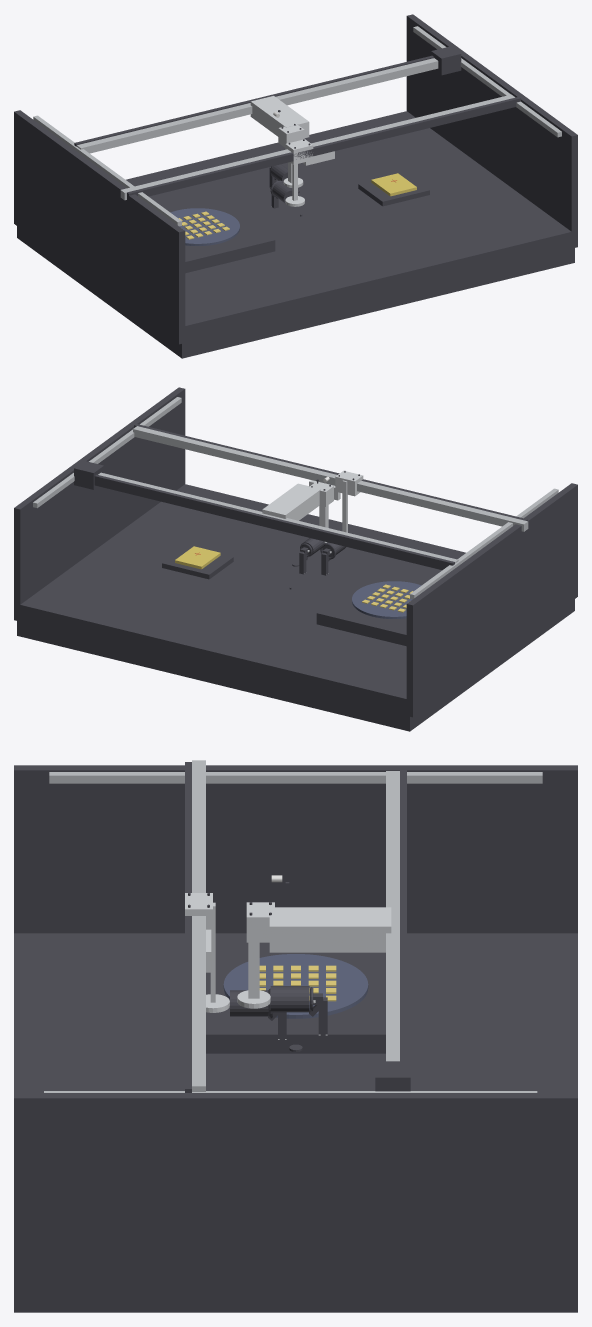
Rendered from flip_chip_bonder.glb.
The picture shows the model from 3 angles, top to bottom: view 1: azimuth 30°, elevation 25°; view 2: azimuth 150°, elevation 25°; view 3: azimuth 270°, elevation 25°; orthographic projection. The views are drawn at different scales.
Parts seen in each view (by area): view 1: MACHINE_BASE, PANEL, PANEL.001, COLRIGHT_RAIL, SKING_RAIL_BACK, WAFER_STAGE, SKING_LINEAR_RAIL, WAFER, COLRIGHT_MOUNT_BRACKET_RAIL, COLRIGHT_RAIL2, TFRAIL2.001, TFRAIL2 (+5 smaller); view 2: MACHINE_BASE, PANEL, PANEL.001, SKING_LINEAR_RAIL, COLRIGHT_RAIL2, WAFER_STAGE, WAFER, COLRIGHT_MOUNT_BRACKET_RAIL, COLRIGHT_RAIL, TFRAIL2.001, TFRAIL2, SKING_RAIL_BACK (+4 smaller); view 3: PANEL.001, PANEL, MACHINE_BASE, WAFER_STAGE, COLRIGHT_MOUNT_BRACKET_RAIL, TFRAIL2, SKING_LINEAR_RAIL, WAFER, COLRIGHT_RAIL, SKING_RAIL_BACK, COLRIGHT_RAIL2, COLRIGHT_BASE (+4 smaller).
Part boxes in pixels (x1=…): MACHINE_BASE: x1=17, y1=111, x2=574, y2=358; PANEL: x1=14, y1=110, x2=185, y2=344; PANEL.001: x1=406, y1=14, x2=577, y2=248; COLRIGHT_RAIL: x1=76, y1=58, x2=438, y2=153; SKING_RAIL_BACK: x1=127, y1=97, x2=520, y2=200; WAFER_STAGE: x1=168, y1=198, x2=275, y2=273; SKING_LINEAR_RAIL: x1=120, y1=94, x2=515, y2=200; WAFER: x1=170, y1=208, x2=239, y2=245; COLRIGHT_MOUNT_BRACKET_RAIL: x1=250, y1=96, x2=309, y2=137; COLRIGHT_RAIL2: x1=74, y1=55, x2=434, y2=146; TFRAIL2.001: x1=413, y1=26, x2=561, y2=137; TFRAIL2: x1=33, y1=115, x2=181, y2=226; MACHINE_BASE: x1=17, y1=484, x2=574, y2=731; PANEL: x1=406, y1=483, x2=577, y2=717; PANEL.001: x1=14, y1=387, x2=185, y2=620; SKING_LINEAR_RAIL: x1=133, y1=426, x2=528, y2=531; COLRIGHT_RAIL2: x1=94, y1=474, x2=454, y2=570; WAFER_STAGE: x1=316, y1=571, x2=423, y2=646; WAFER: x1=352, y1=581, x2=421, y2=618; COLRIGHT_MOUNT_BRACKET_RAIL: x1=262, y1=483, x2=320, y2=520; COLRIGHT_RAIL: x1=98, y1=472, x2=458, y2=563; TFRAIL2.001: x1=33, y1=397, x2=181, y2=508; TFRAIL2: x1=410, y1=488, x2=558, y2=599; SKING_RAIL_BACK: x1=134, y1=424, x2=527, y2=521; PANEL.001: x1=14, y1=1093, x2=577, y2=1289; PANEL: x1=14, y1=765, x2=577, y2=933; MACHINE_BASE: x1=14, y1=933, x2=577, y2=1312; WAFER_STAGE: x1=206, y1=952, x2=385, y2=1053; COLRIGHT_MOUNT_BRACKET_RAIL: x1=269, y1=907, x2=391, y2=952; TFRAIL2: x1=49, y1=772, x2=542, y2=783; SKING_LINEAR_RAIL: x1=192, y1=760, x2=205, y2=1091; WAFER: x1=223, y1=954, x2=368, y2=1018; COLRIGHT_RAIL: x1=386, y1=771, x2=399, y2=1061; SKING_RAIL_BACK: x1=185, y1=762, x2=191, y2=1092; COLRIGHT_RAIL2: x1=400, y1=769, x2=406, y2=1061; COLRIGHT_BASE: x1=375, y1=1061, x2=410, y2=1091.
Size of the model in its own units: 4.5 by 1.58 by 3.2.
